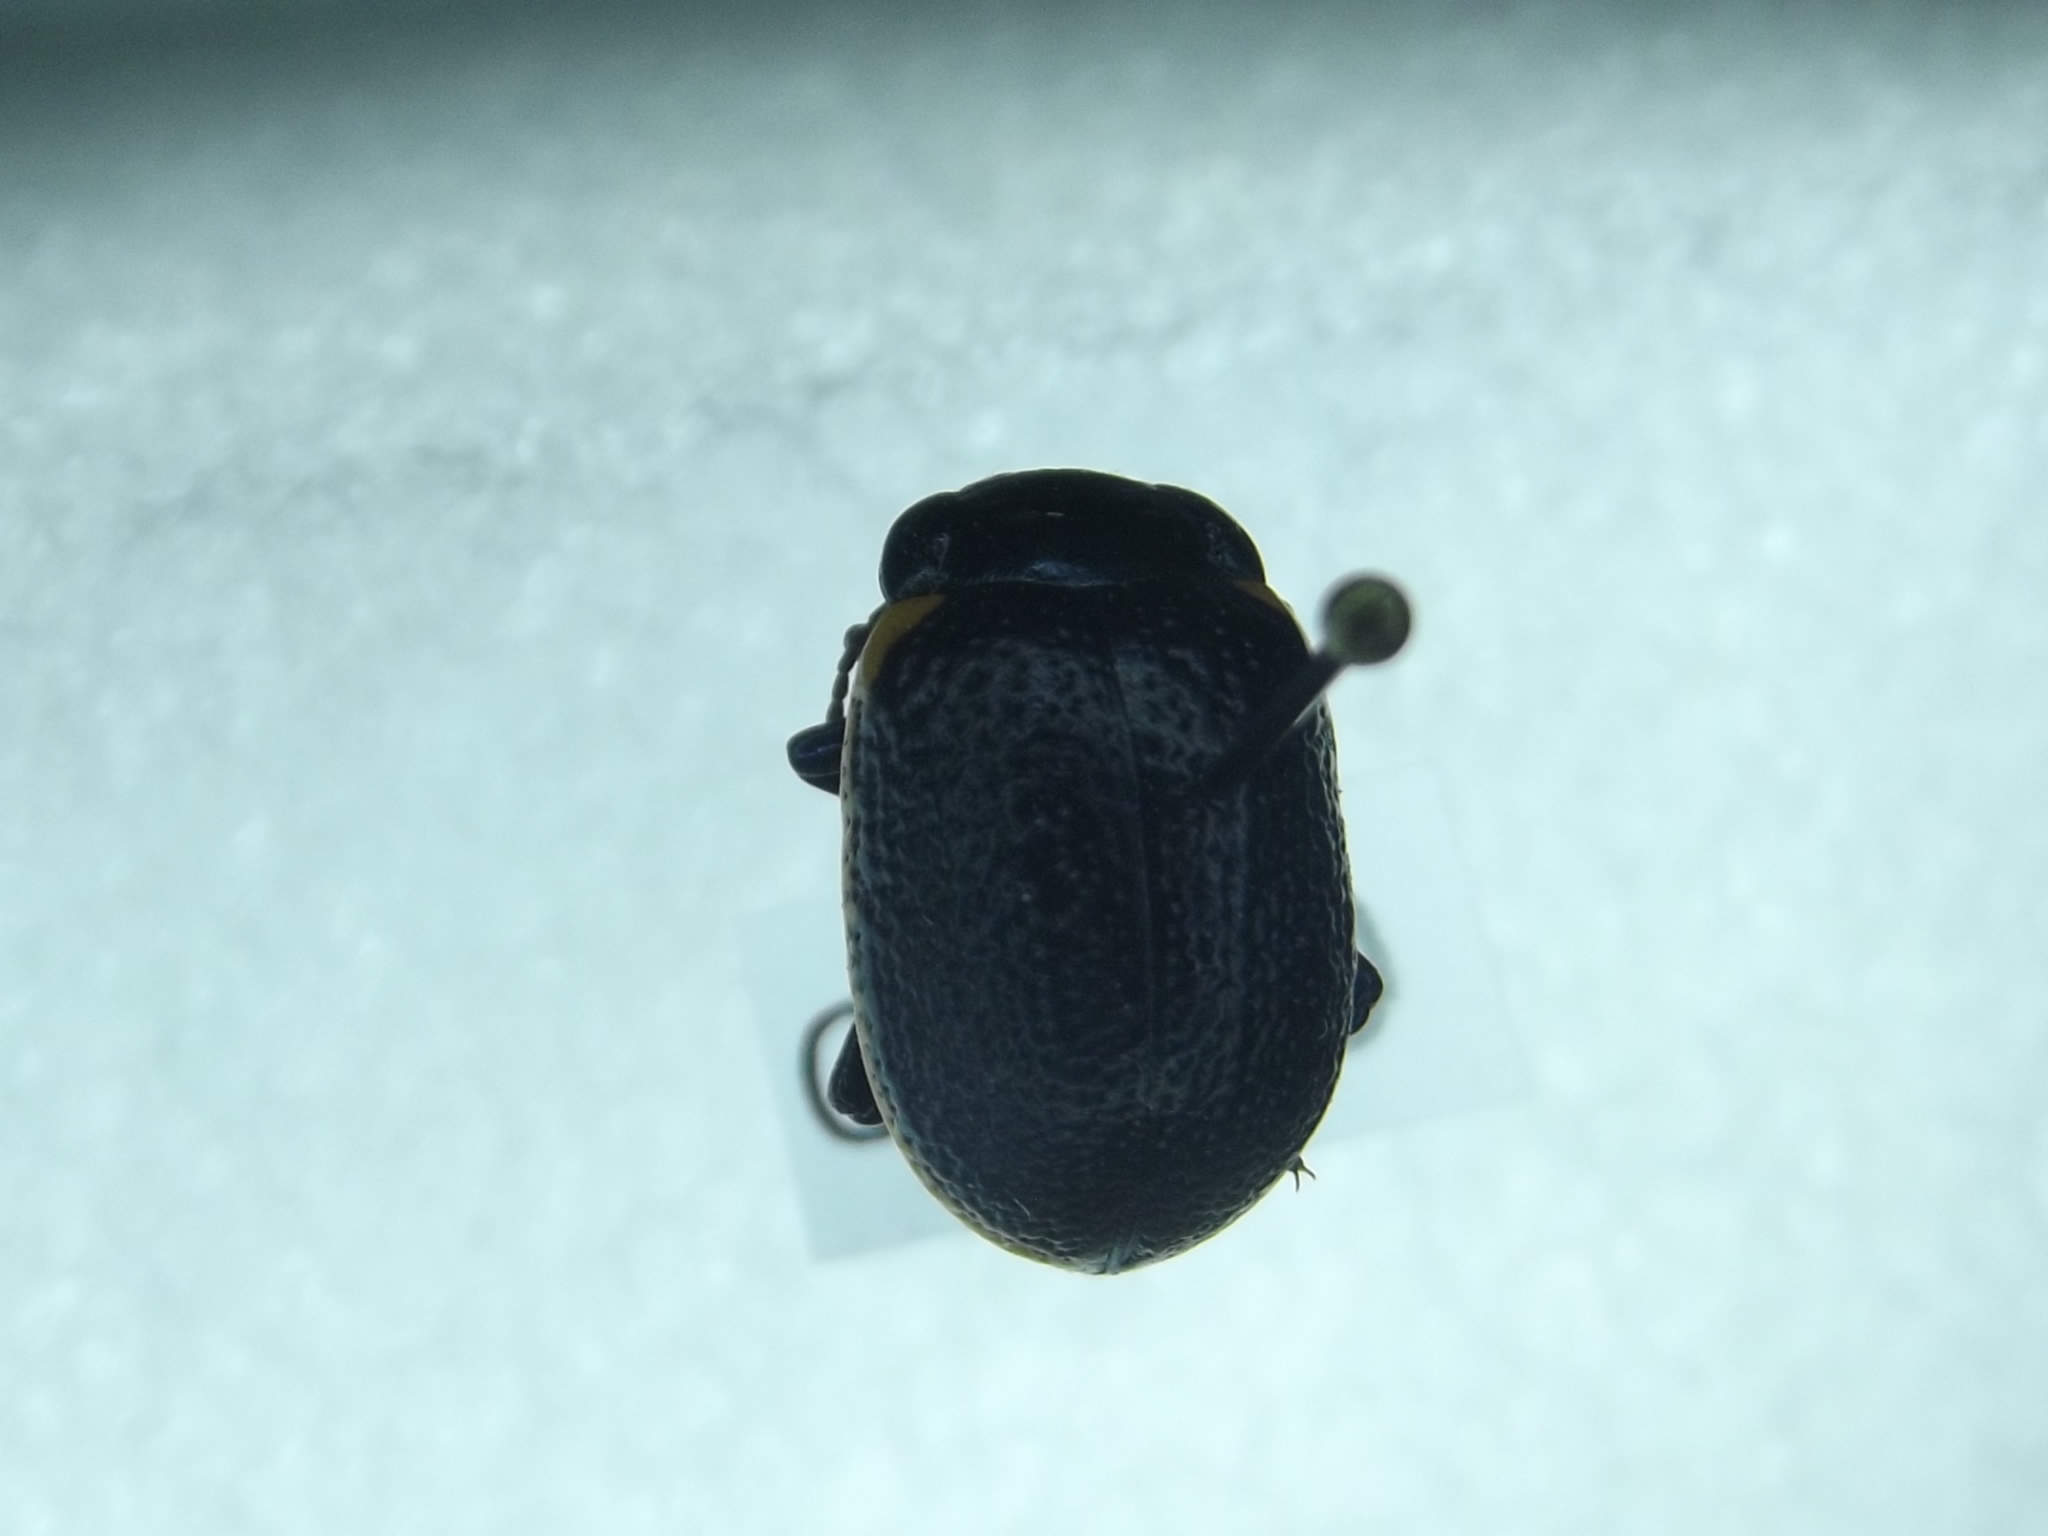Chrysolina_gypsophila: (787, 461, 1395, 1276)
